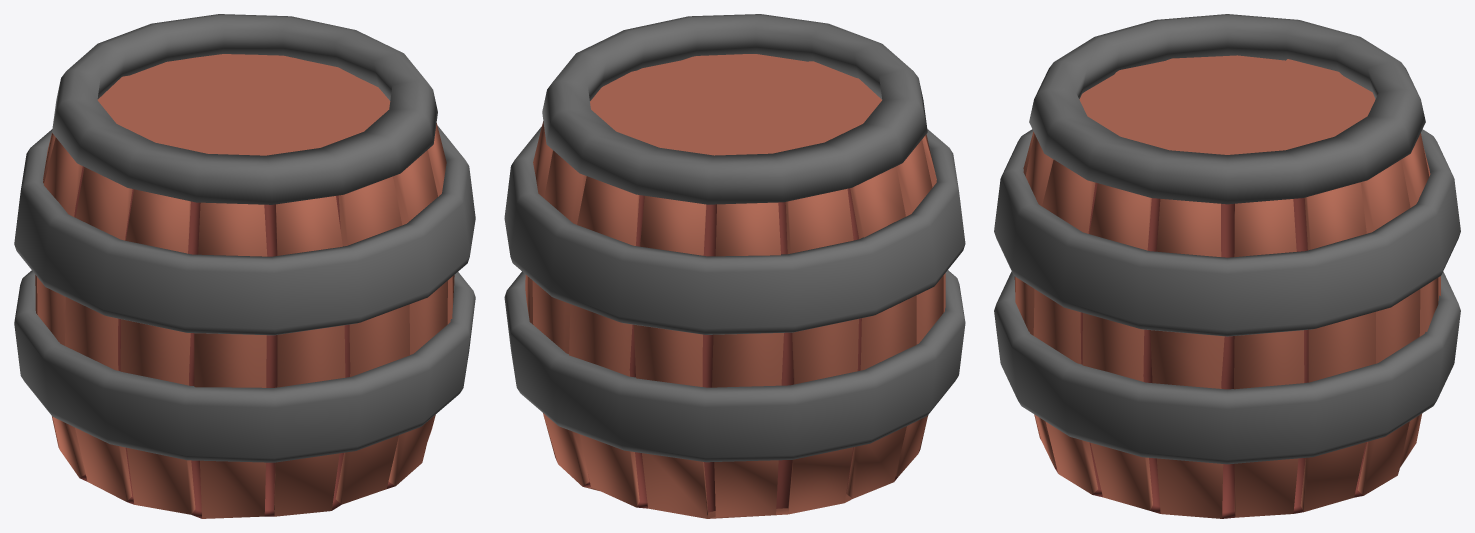
Rendered from Barrell.fbx.
3 views of the same model, side by side, from view 1: azimuth 30°, elevation 25°; view 2: azimuth 150°, elevation 25°; view 3: azimuth 270°, elevation 25° (orthographic).
Visible parts, largest first — view 1: Barrell; view 2: Barrell; view 3: Barrell.
Boxes of the visible parts, x1,y1,x2,y2 form: Barrell: (14,14,475,518); Barrell: (504,14,965,518); Barrell: (994,14,1460,518).
Bounding box in the file's own units: 88.52 × 73.91 × 88.52.
